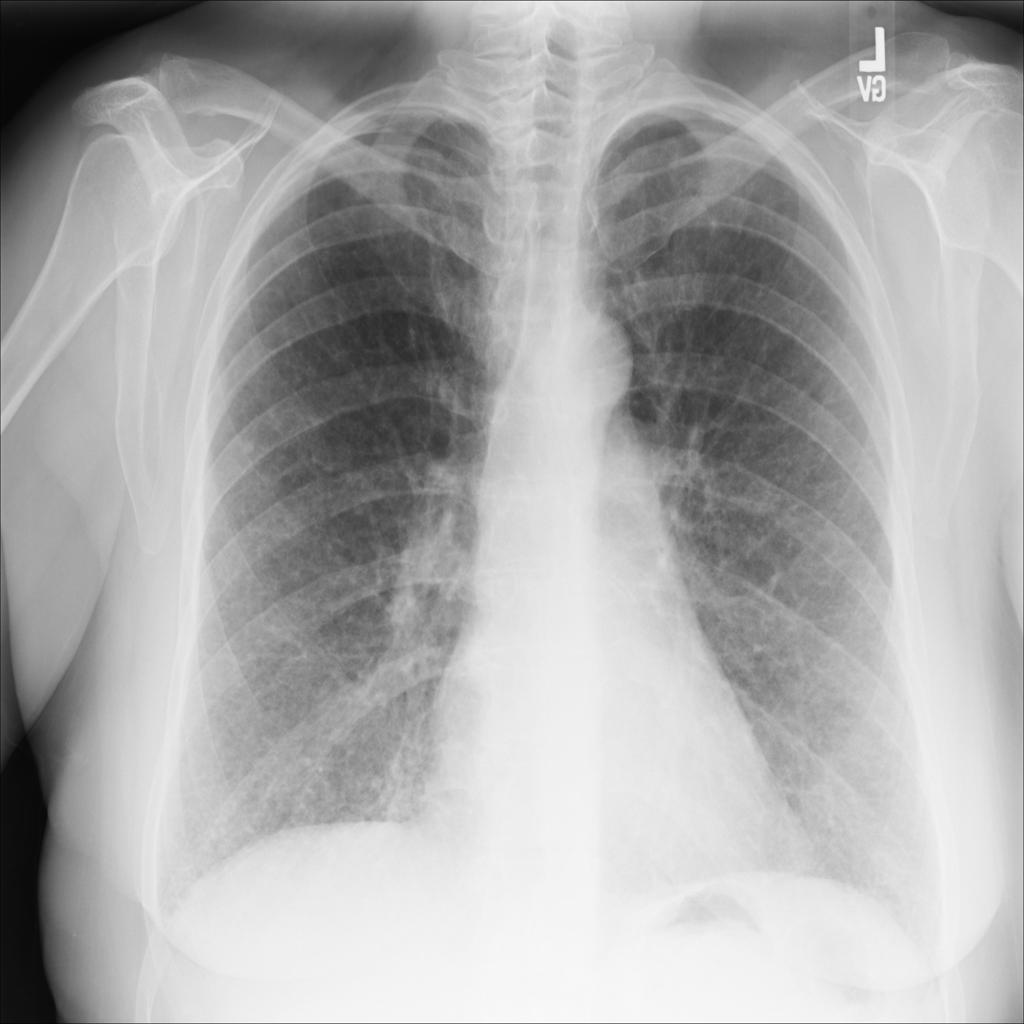nodule: (225, 417, 274, 472)
